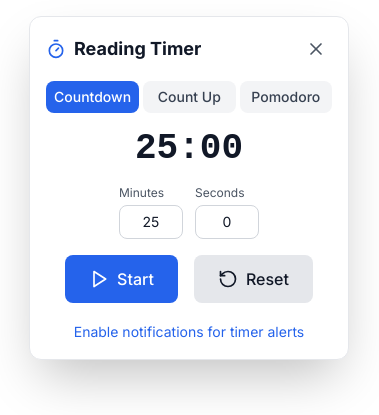
Timer › shows count-up mode after clicking Count Up
This screenshot has width=379, height=415.
Click the button "Count Up". click: {"x": 189, "y": 97}
box: [143,81,236,113]
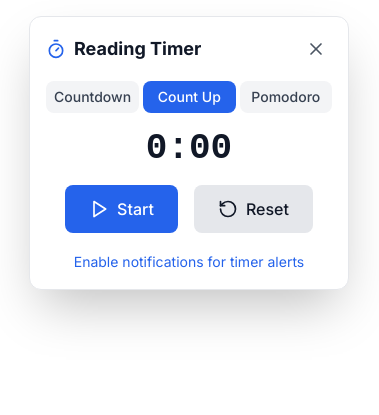
Result: the text "0:00" is shown at [146,128,232,169]
